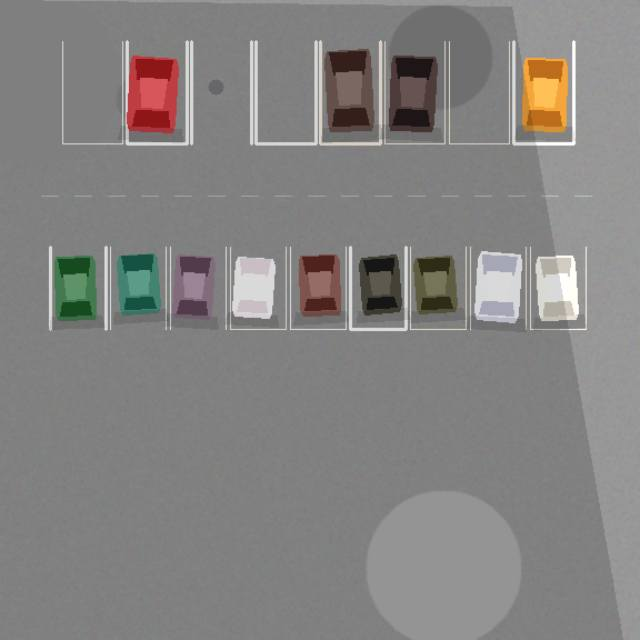space-empty: (62, 41, 122, 143), (191, 41, 251, 143), (256, 41, 316, 143), (449, 41, 509, 143)
space-occupied: (127, 41, 187, 143), (320, 41, 380, 143), (384, 41, 444, 143), (513, 41, 573, 143), (50, 247, 106, 329), (110, 247, 166, 329), (170, 247, 226, 329), (230, 247, 286, 329), (290, 247, 346, 329), (350, 247, 406, 329), (410, 247, 466, 329), (470, 247, 526, 329), (530, 247, 586, 329)
